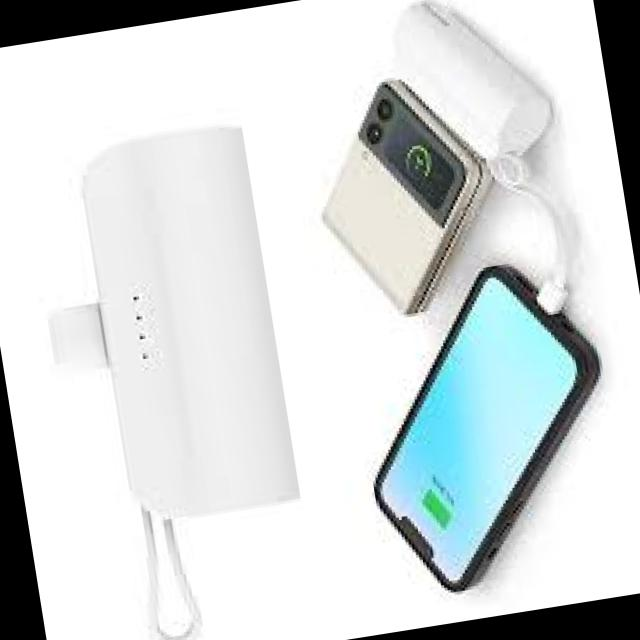power_bank: (21, 117, 302, 536), (381, 0, 569, 178)
